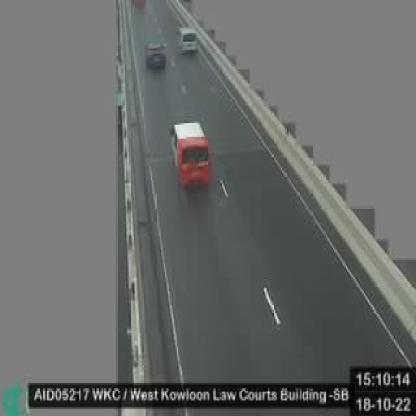Car: (171, 121, 213, 196), (144, 39, 167, 71), (176, 25, 200, 55)
